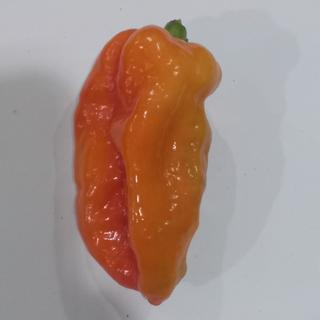Grade-A: (69, 22, 225, 308)
